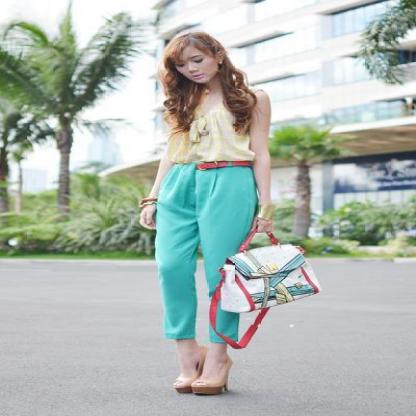bag: (209, 225, 318, 348)
pants: (152, 162, 259, 344)
shirt: (153, 93, 253, 163)
shoe: (173, 369, 240, 399)
